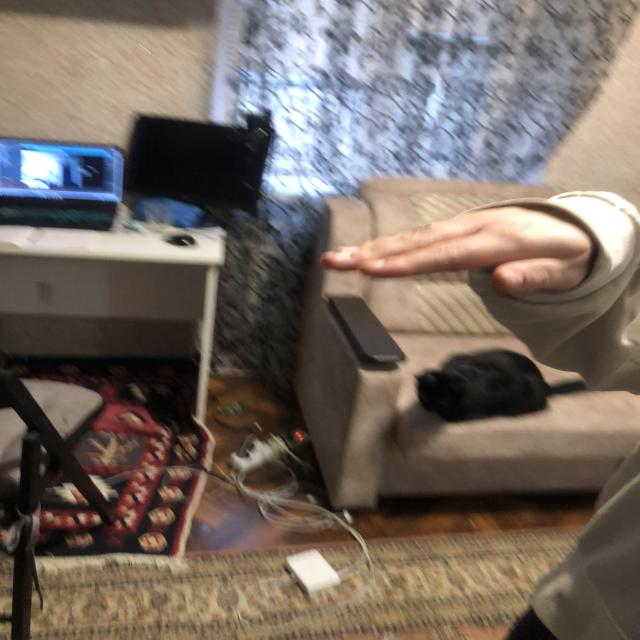paper: (320, 214, 578, 291)
